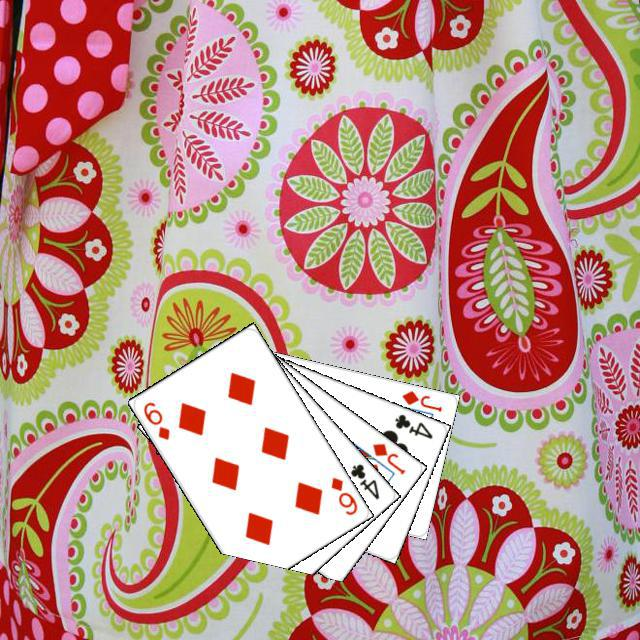4c: (345, 459, 381, 501), (389, 409, 434, 440)
6d: (326, 472, 359, 517), (138, 397, 171, 442)
Jd: (367, 438, 407, 477), (397, 385, 444, 414)
